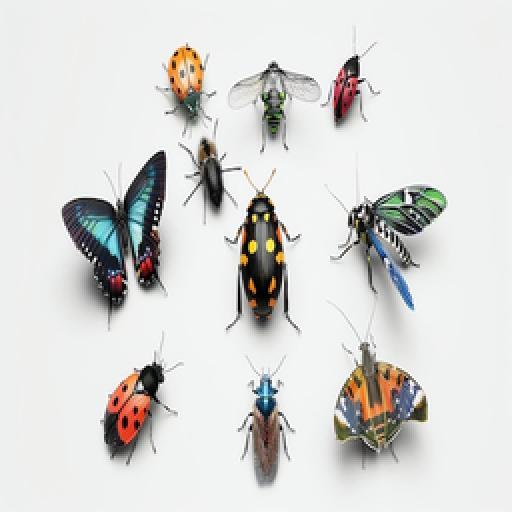insects: (58, 148, 172, 330), (324, 180, 450, 314), (324, 320, 432, 470), (220, 166, 302, 340), (96, 344, 184, 466), (234, 346, 300, 488), (226, 58, 322, 154), (178, 122, 244, 226), (328, 24, 382, 136), (156, 42, 216, 136)
